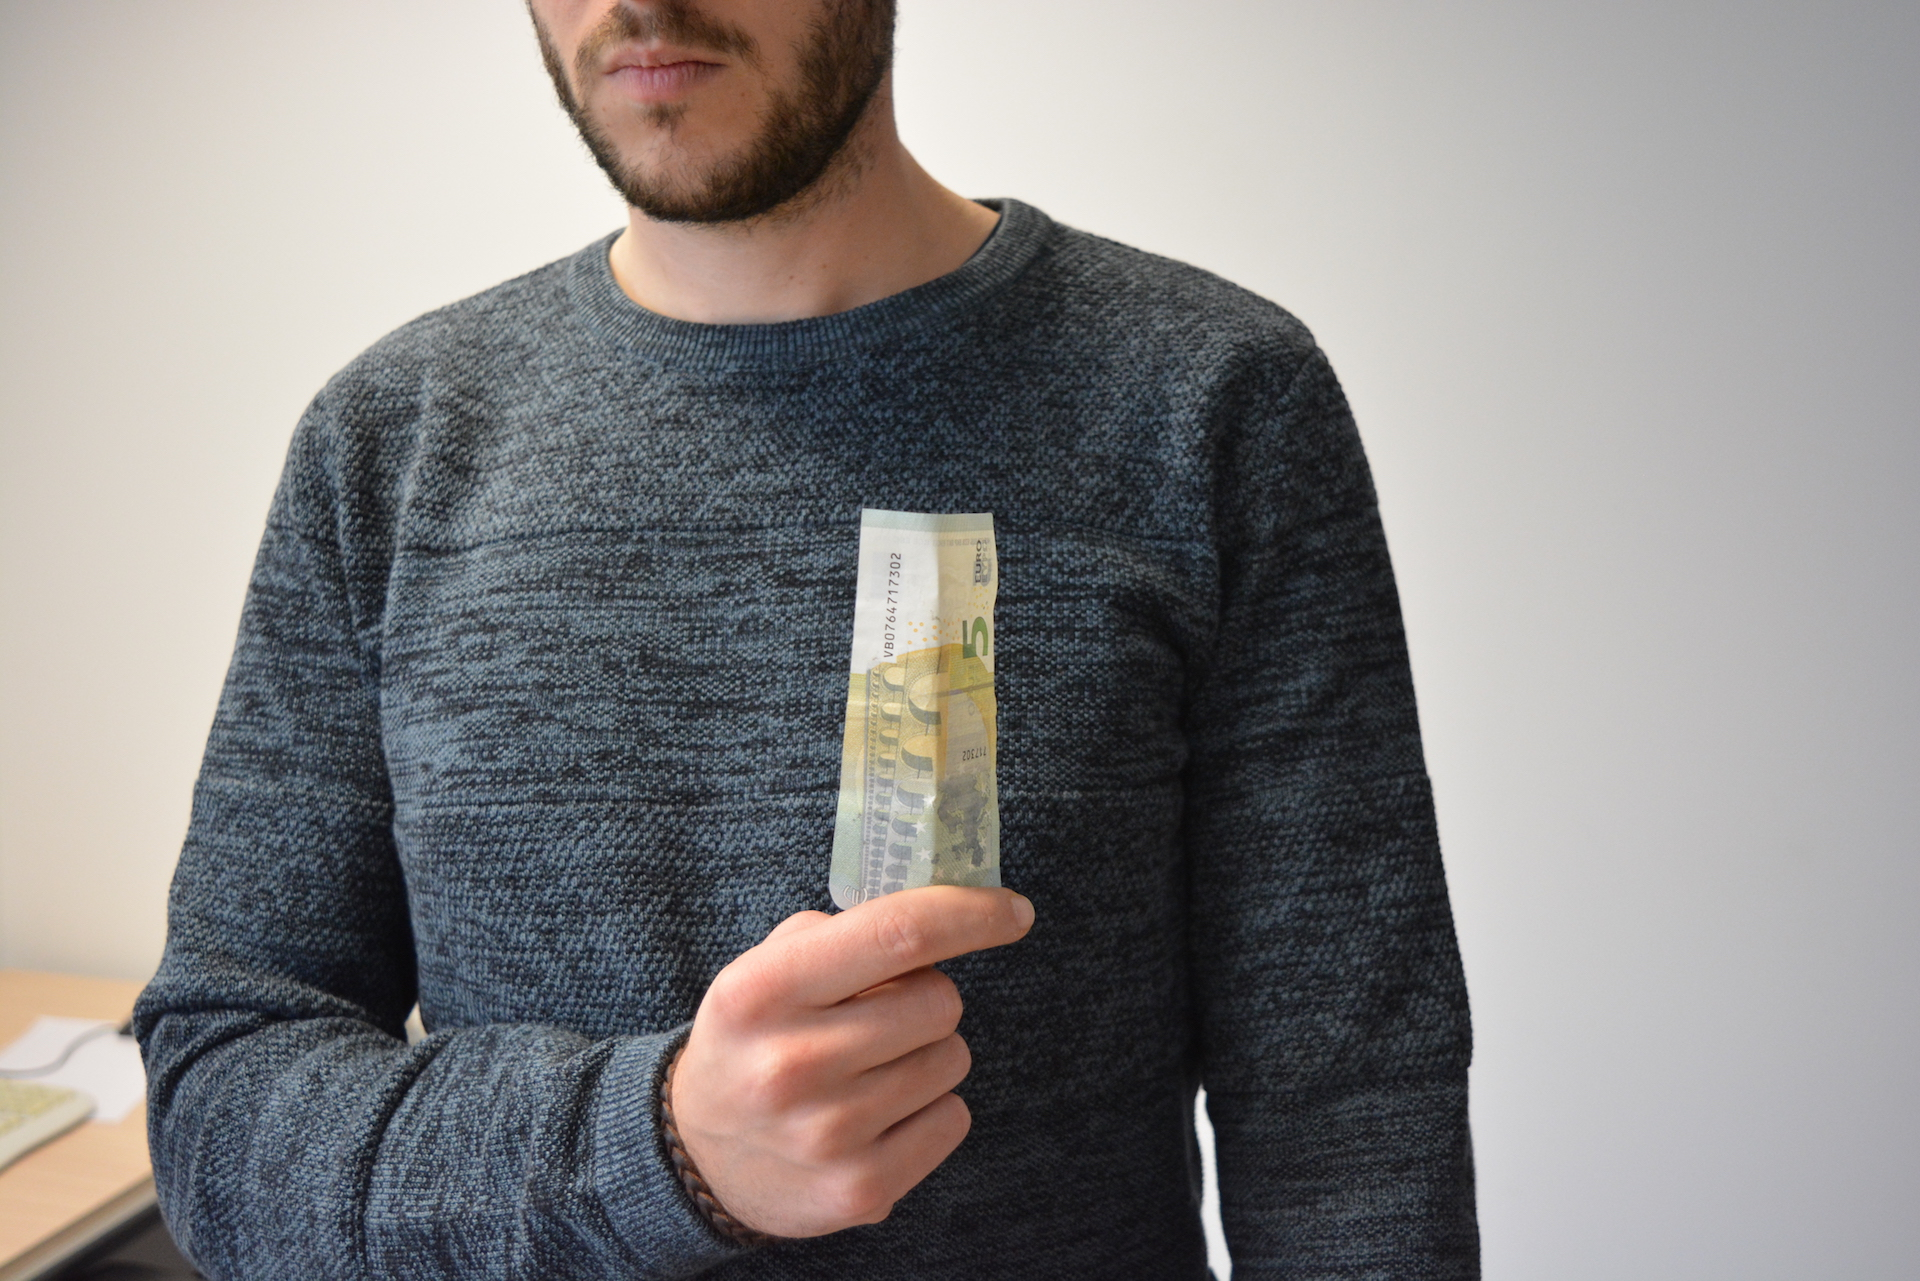billete: (823, 506, 1005, 915)
